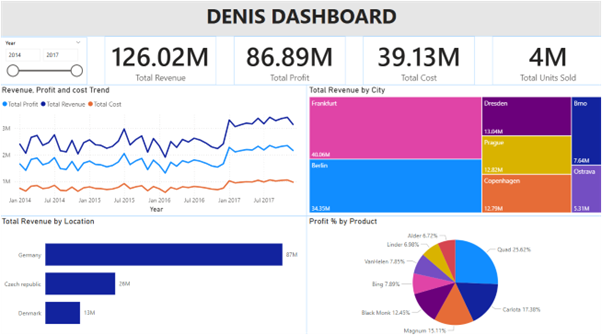

The page's visual inventory and layout, read from the dashboard file:
{"tool":"powerbi","page":{"name":"Denis Dashboard","canvas":[1280,720],"ordinal":0},"visuals":[{"type":"textbox","box":[0,0,1280.2,78.9],"z":0},{"type":"slicer","fields":{"Values":["Denis_TB.Date.Variation.Date Hierarchy.Year"]},"box":[0,80.3,185.9,100.8],"z":1000},{"type":"card","fields":{"Values":["Measures Calc.Total Revenue"]},"box":[223.3,78.8,236.3,102.4],"z":2000},{"type":"card","fields":{"Values":["Measures Calc.Total Profit"]},"box":[496.9,78.8,236.3,102.4],"z":3000},{"type":"card","fields":{"Values":["Measures Calc.Total Cost"]},"box":[770.6,78.8,236.3,102.4],"z":4000},{"type":"card","fields":{"Values":["Measures Calc.Total Units Sold"]},"box":[1043.7,78.8,236.3,102.4],"z":5000},{"type":"barChart","fields":{"Category":["Denis_TB.Location"],"Y":["Measures Calc.Total Revenue"]},"box":[0,458.3,650.5,261.5],"z":6000},{"type":"pieChart","title":"Profit % by Product","fields":{"Y":["Measures Calc.Total Profit"],"Category":["Denis_TB.ProductName"]},"box":[650.5,458.3,630,261.5],"z":6001},{"type":"lineChart","title":"Revenue, Profit and cost Trend","fields":{"Y":["Measures Calc.Total Profit","Measures Calc.Total Revenue","Measures Calc.Total Cost"],"Category":["Denis_TB.Date.Variation.Date Hierarchy.Year1","Denis_TB.Date.Variation.Date Hierarchy.Quarter","Denis_TB.Date.Variation.Date Hierarchy.Month"]},"box":[0,181.1,650.5,277.2],"z":6002},{"type":"treemap","fields":{"Values":["Measures Calc.Total Revenue"],"Details":["Denis_TB.City"]},"box":[650.5,181.1,630,277.2],"z":6003}]}

Visuals, with their boxes in screenshot pixels (x1, y1, x2, y2), scaled from the page's 1280x720 canvas onto the 602x335 screenshot:
textbox: bbox=(0, 0, 601, 37)
slicer - Denis_TB.Date.Variation.Date Hierarchy.Year: bbox=(0, 37, 87, 84)
card - Measures Calc.Total Revenue: bbox=(105, 37, 216, 84)
card - Measures Calc.Total Profit: bbox=(234, 37, 345, 84)
card - Measures Calc.Total Cost: bbox=(362, 37, 474, 84)
card - Measures Calc.Total Units Sold: bbox=(491, 37, 601, 84)
barChart - Denis_TB.Location x Measures Calc.Total Revenue: bbox=(0, 213, 306, 334)
"Profit % by Product" pieChart: bbox=(306, 213, 601, 334)
"Revenue, Profit and cost Trend" lineChart: bbox=(0, 84, 306, 213)
treemap - Measures Calc.Total Revenue x Denis_TB.City: bbox=(306, 84, 601, 213)
